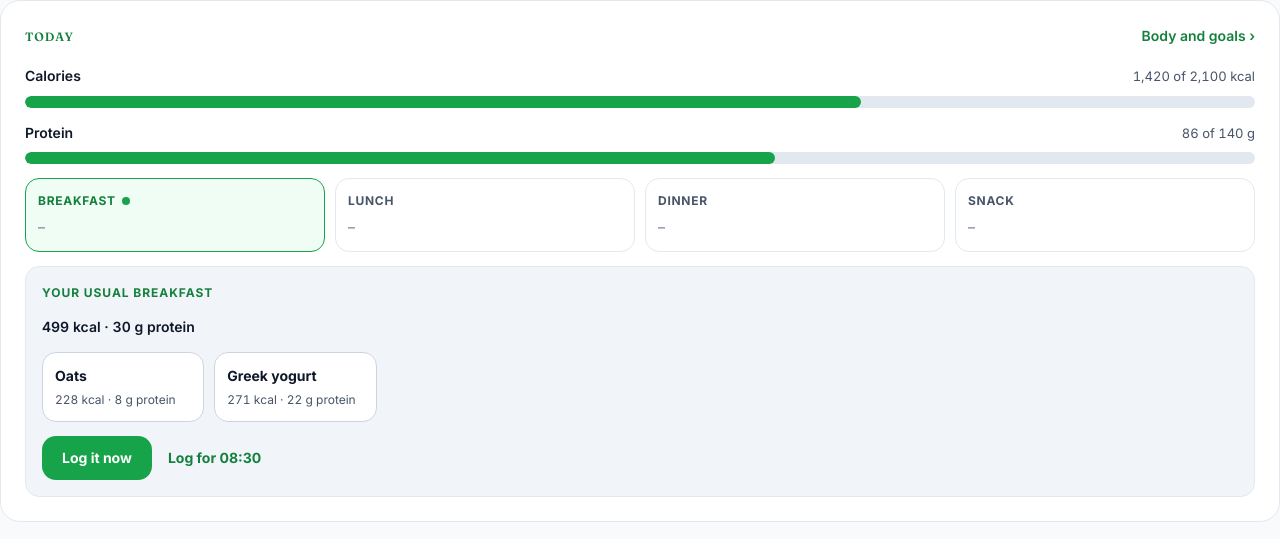
it: TodayCardComponent › food tab with a usual meal › logs the combination now with the slot type and reloads the meals and the budget
The width and height of the screenshot is (1280, 539).
Click the button with class "action" showing "Log it now" at (97, 458), box [42,436,152,480]
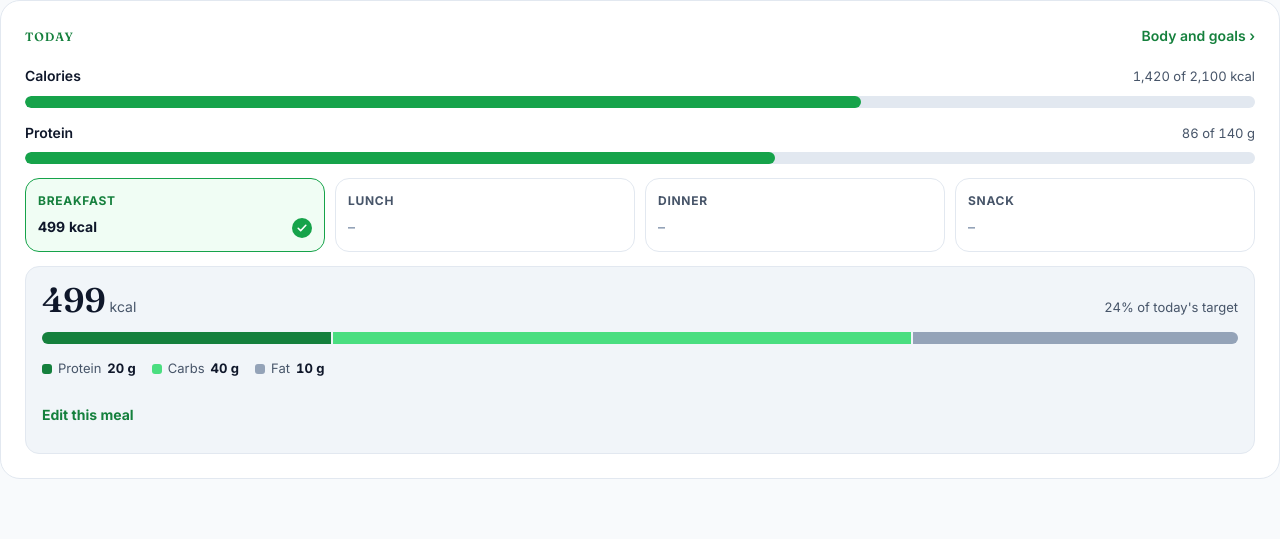
Result: the icon with class "slot-check" is shown at [292,218,312,238]
Result: the text "Your usual breakfast" is gone
Result: the panel with id "today-slot-panel" shows "Edit this meal" at [42,393,134,437]
